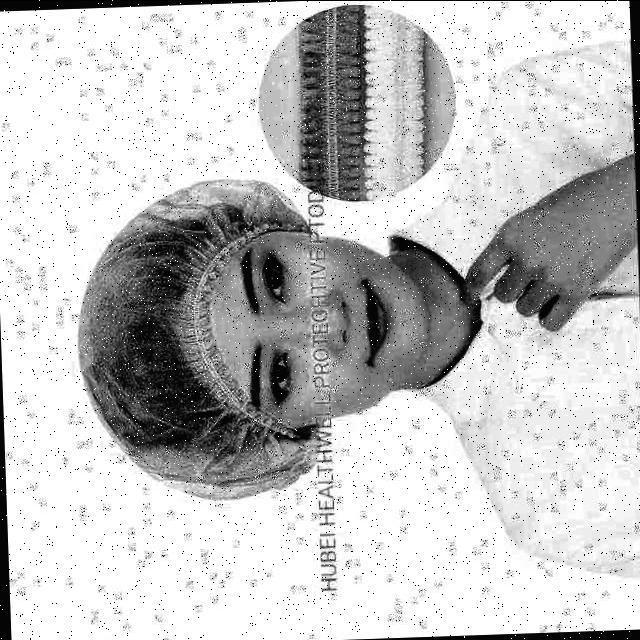no_apron: (460, 172, 640, 314)
no_hairnet: (271, 254, 419, 372)
